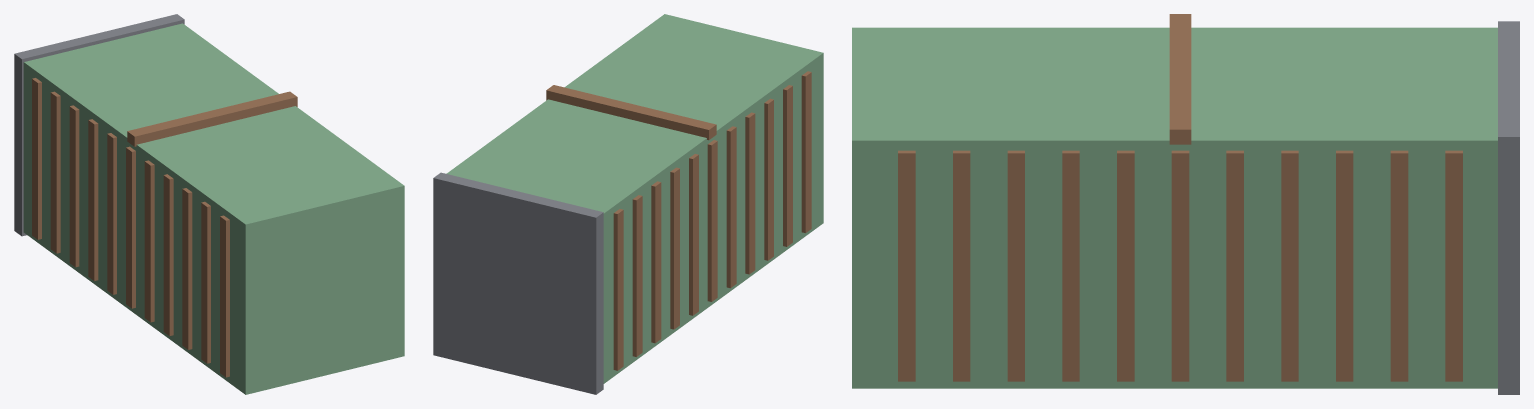
The model's file is wasteland_container_green.glb.
3 renders of one model, left to right at view 1: azimuth 30°, elevation 25°; view 2: azimuth 150°, elevation 25°; view 3: azimuth 270°, elevation 25°, orthographic. The views are drawn at different scales.
Parts seen in each view (by area): view 1: Prop_ContainerGreen; view 2: Prop_ContainerGreen; view 3: Prop_ContainerGreen.
Boxes of the visible parts, left/top/right/bottom form: Prop_ContainerGreen: left=14, top=14, right=404, bottom=394; Prop_ContainerGreen: left=433, top=14, right=823, bottom=394; Prop_ContainerGreen: left=852, top=14, right=1519, bottom=394.
Size of the model in its own units: 2.56 by 2.67 by 6.1.
